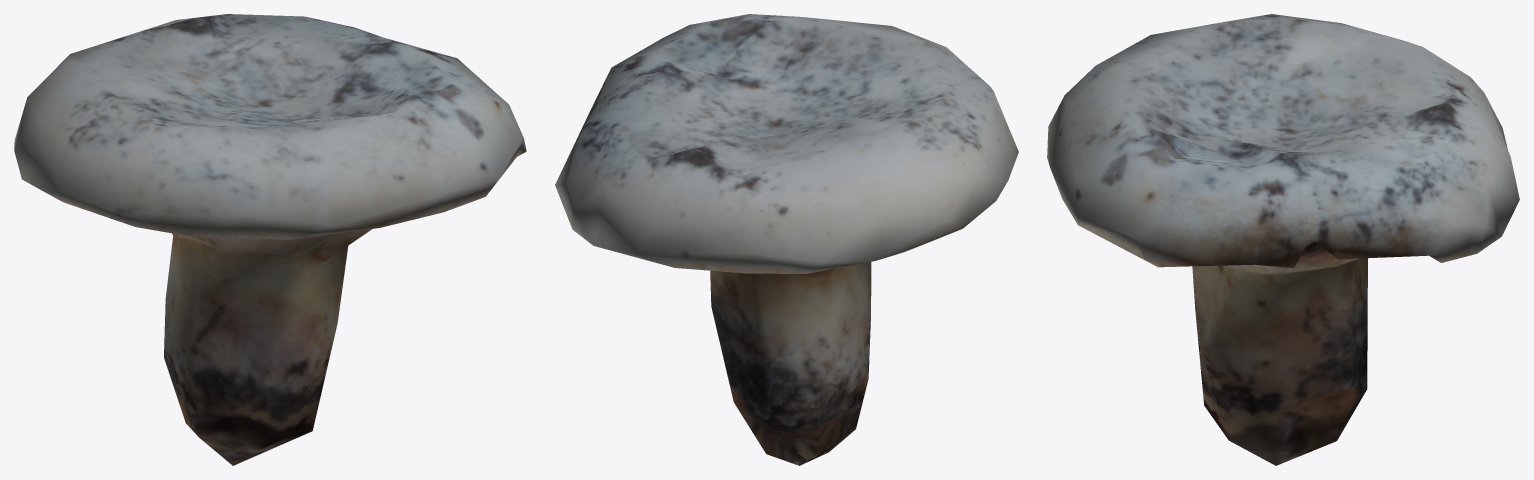
The model's file is Lactarius_pergamenus_01.FBX.
The picture shows the model from 3 angles, left to right: view 1: azimuth 30°, elevation 25°; view 2: azimuth 150°, elevation 25°; view 3: azimuth 270°, elevation 25°; orthographic projection. The views are drawn at different scales.
Visible parts, largest first — view 1: Lactarius_pergamenus_01_LOD0; view 2: Lactarius_pergamenus_01_LOD0; view 3: Lactarius_pergamenus_01_LOD0.
Boxes of the visible parts, bbox=[...] form: Lactarius_pergamenus_01_LOD0: bbox=[14, 14, 526, 465]; Lactarius_pergamenus_01_LOD0: bbox=[555, 14, 1018, 465]; Lactarius_pergamenus_01_LOD0: bbox=[1047, 14, 1519, 465].
Size of what is drawn, in the model's own units: 133 by 114 by 131.
